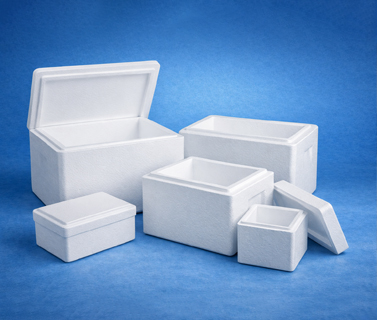Boxes: (27, 61, 347, 270)
